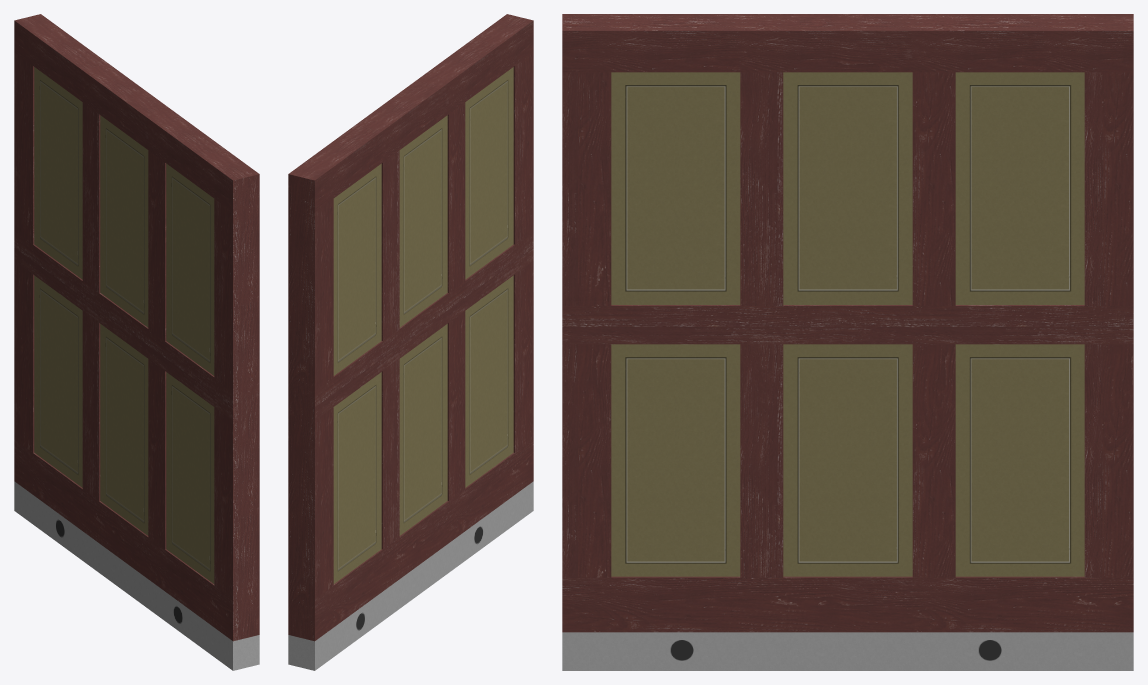
The model's file is SM_Sun_Dae_Wall_D.fbx.
3 views of the same model, side by side, from view 1: azimuth 30°, elevation 25°; view 2: azimuth 150°, elevation 25°; view 3: azimuth 270°, elevation 25° (orthographic). The views are drawn at different scales.
Visible parts, largest first — view 1: SM_Sun_Dae_Wall_D; view 2: SM_Sun_Dae_Wall_D; view 3: SM_Sun_Dae_Wall_D.
Boxes of the visible parts, x1=… form: SM_Sun_Dae_Wall_D: x1=14, y1=14, x2=259, y2=670; SM_Sun_Dae_Wall_D: x1=288, y1=14, x2=533, y2=670; SM_Sun_Dae_Wall_D: x1=562, y1=14, x2=1133, y2=670.
Size of the model in its own units: 20 by 354 by 286.
